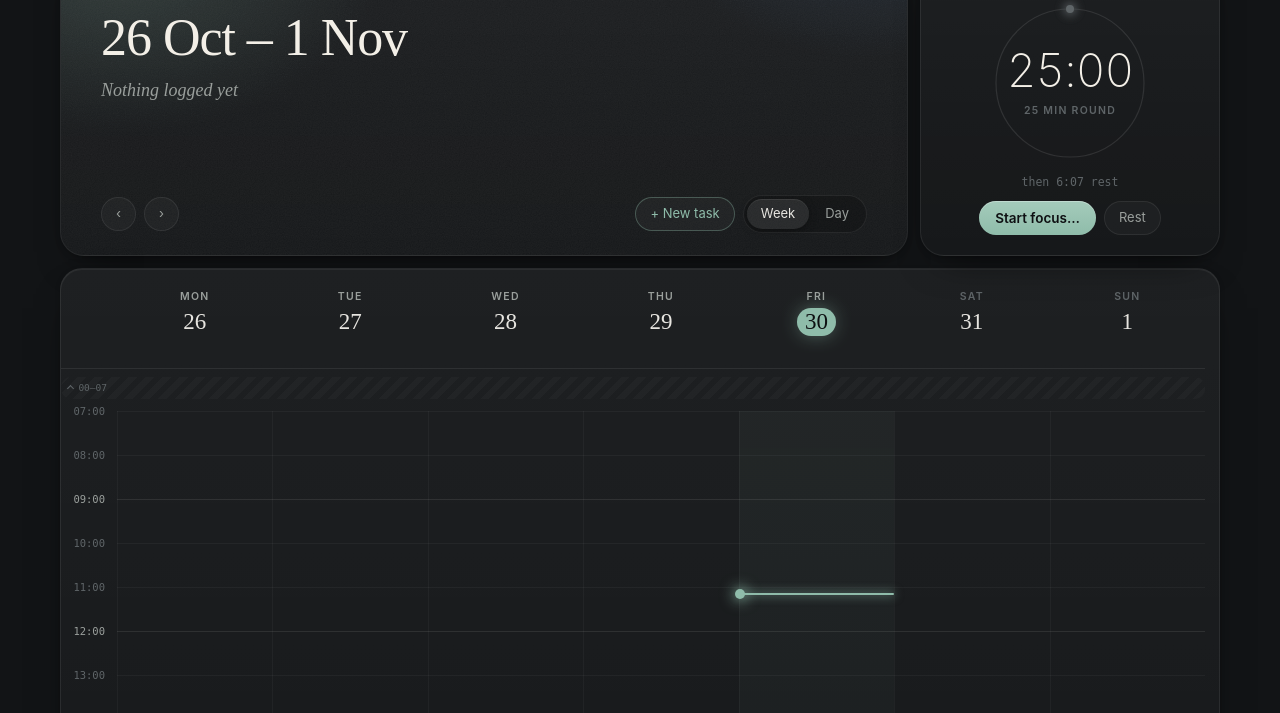
it: the calendar › shows Calendar’s events as Senioro does, and none of the note’s blocks
The width and height of the screenshot is (1280, 713).
Click the button with test id "cal-prev" at [118, 214], box [101, 197, 136, 231]
(page scrolled)
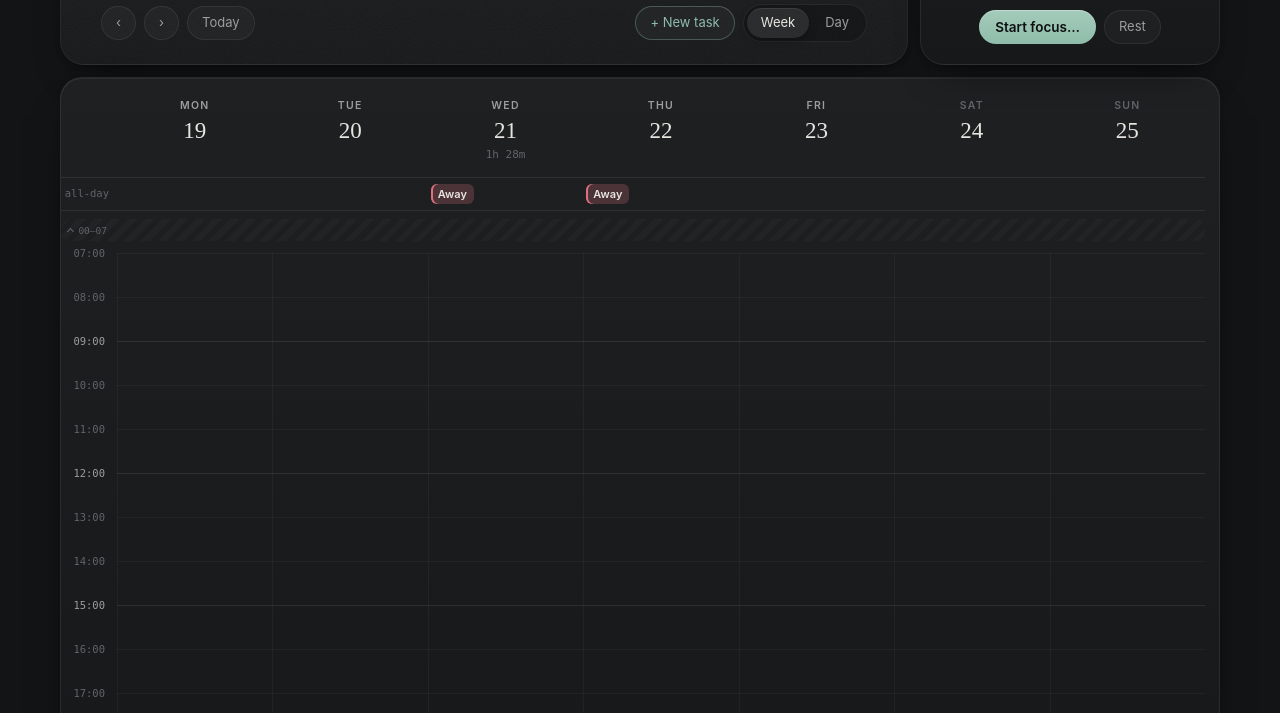
Expected: the text "Away" is shown 2 times, [431, 184, 474, 204]; [586, 184, 629, 204]
